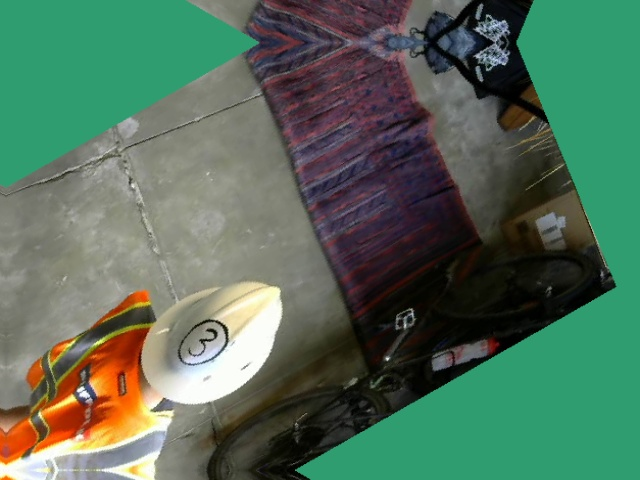three: (170, 310, 234, 373)
